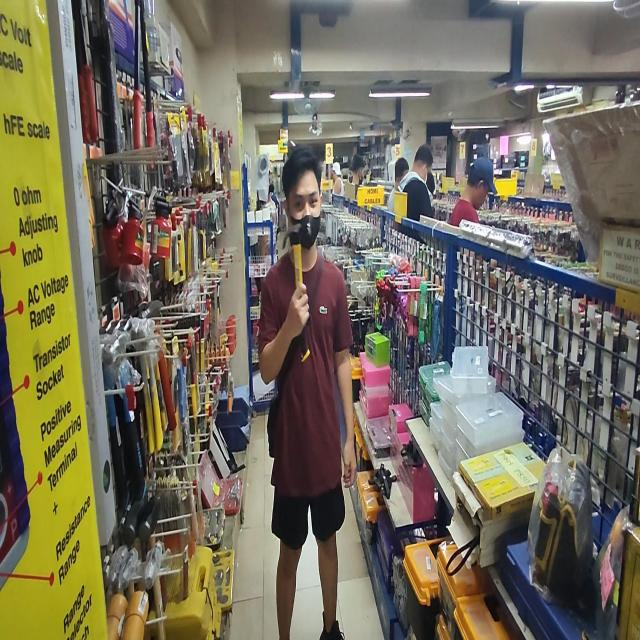hammer: (282, 222, 312, 363)
